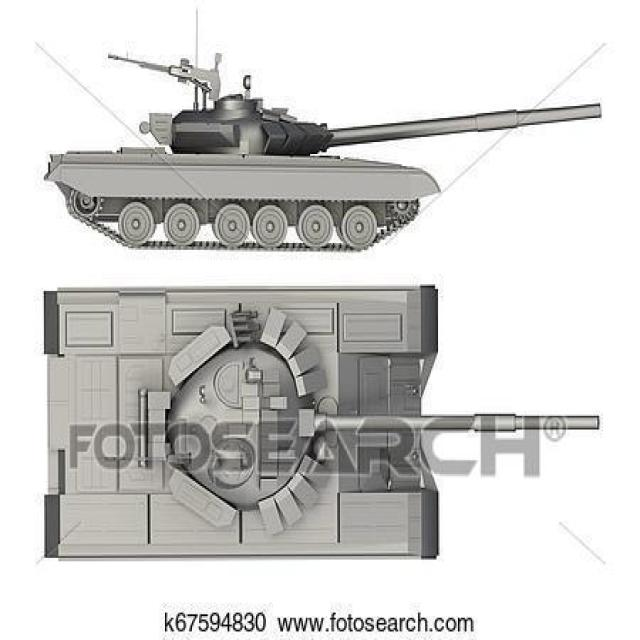Tanks: (31, 276, 624, 588), (39, 41, 625, 255)
